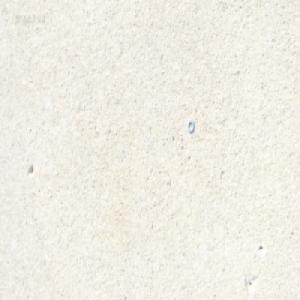Washer: (186, 118, 194, 133)
